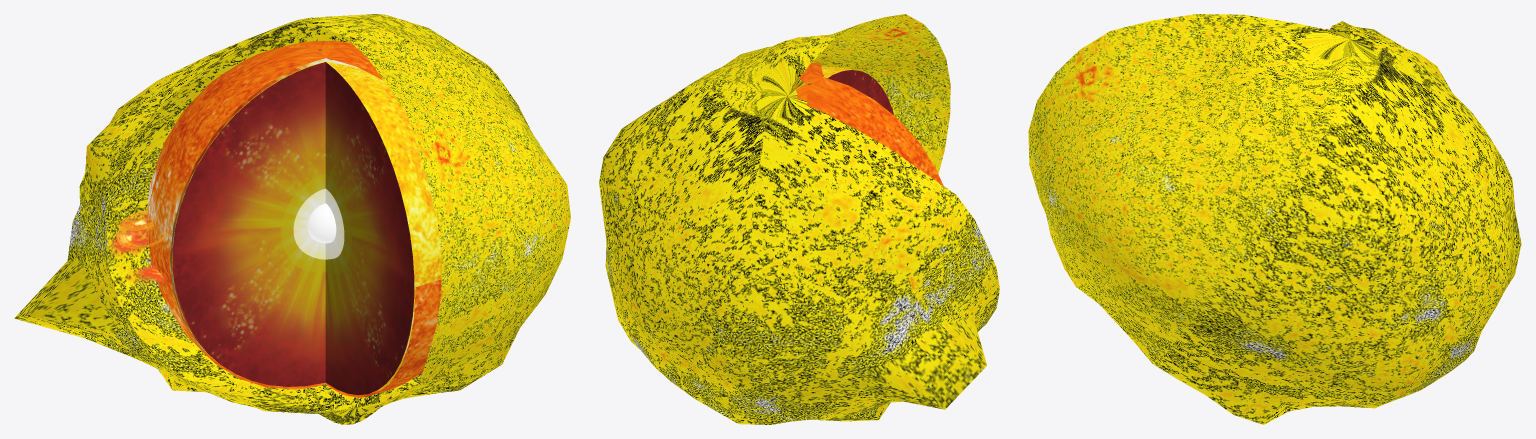
The model's file is Sol4.glb.
3 renders of one model, left to right at view 1: azimuth 30°, elevation 25°; view 2: azimuth 150°, elevation 25°; view 3: azimuth 270°, elevation 25°, orthographic. The views are drawn at different scales.
Parts seen in each view (by area): view 1: Sphere.001, Círculo.001, Círculo.003, Sphere, Cube.001, Cube.004, Cube.002, Cube.003; view 2: Sphere.001, Sphere, Círculo.003; view 3: Sphere.001.
Boxes of the visible parts, left/top/right/bottom form: Sphere.001: left=14, top=14, right=570, bottom=424; Círculo.001: left=172, top=62, right=382, bottom=386; Círculo.003: left=244, top=62, right=414, bottom=395; Sphere: left=146, top=40, right=441, bottom=397; Cube.001: left=172, top=61, right=441, bottom=392; Cube.004: left=293, top=188, right=344, bottom=259; Cube.002: left=170, top=58, right=360, bottom=387; Cube.003: left=308, top=203, right=335, bottom=242; Sphere.001: left=599, top=14, right=999, bottom=424; Sphere: left=787, top=62, right=943, bottom=185; Círculo.003: left=827, top=70, right=893, bottom=114; Sphere.001: left=1028, top=14, right=1521, bottom=424.
Size of the model in its own units: 1.94 by 1.58 by 1.92.
Materials: 9 (9 with a texture image).
